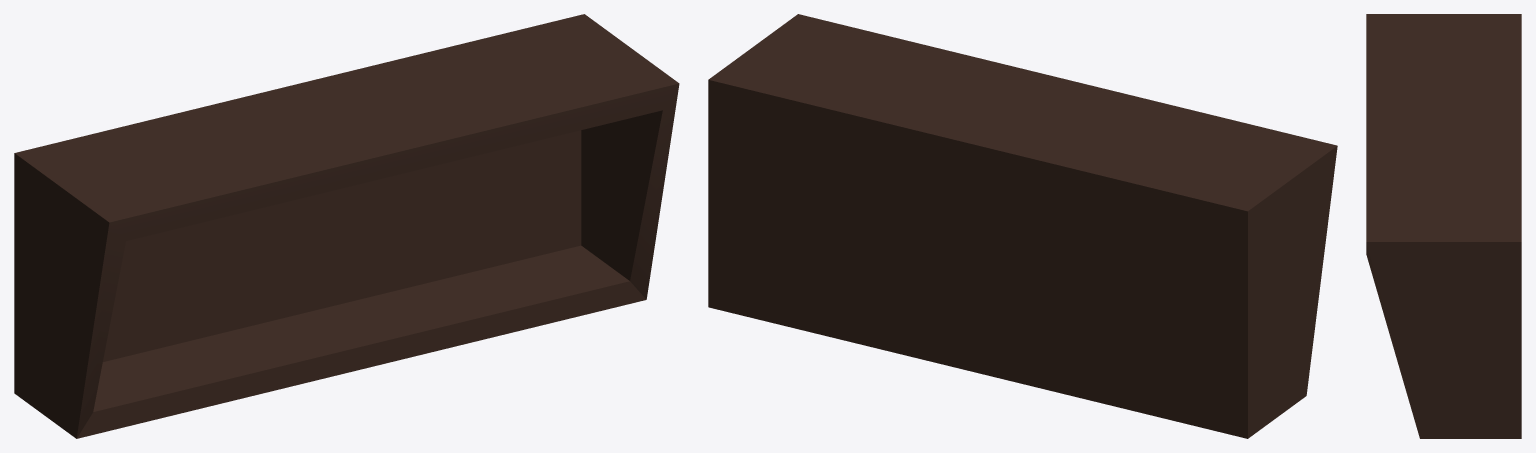
File: Shelf_Hanging.fbx
3 renders of one model, left to right at view 1: azimuth 30°, elevation 25°; view 2: azimuth 150°, elevation 25°; view 3: azimuth 270°, elevation 25°, orthographic. The views are drawn at different scales.
Visible parts, largest first — view 1: Wall_Shelf; view 2: Wall_Shelf; view 3: Wall_Shelf.
Part boxes in pixels (x1,y1,x2,y2): Wall_Shelf: (14, 14, 679, 438); Wall_Shelf: (708, 14, 1337, 438); Wall_Shelf: (1366, 14, 1521, 438).
Size of the model in its own units: 17.15 by 6.91 by 4.95.
